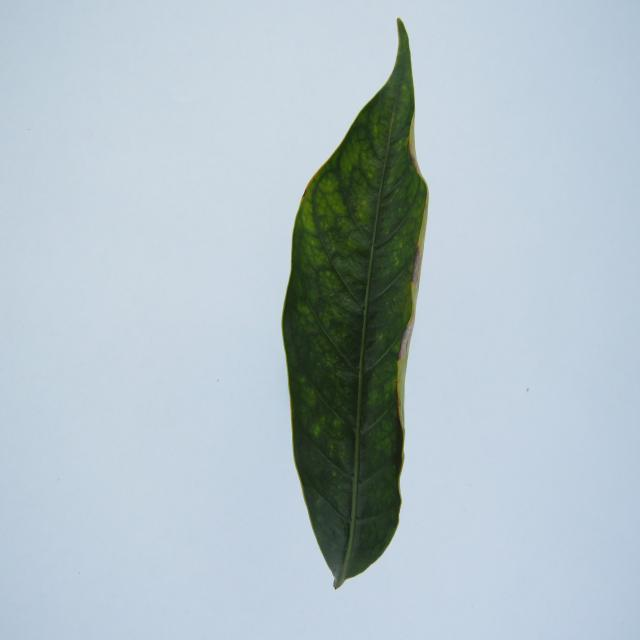DeficienciaNutricional-Manganeso: (282, 20, 429, 588)
